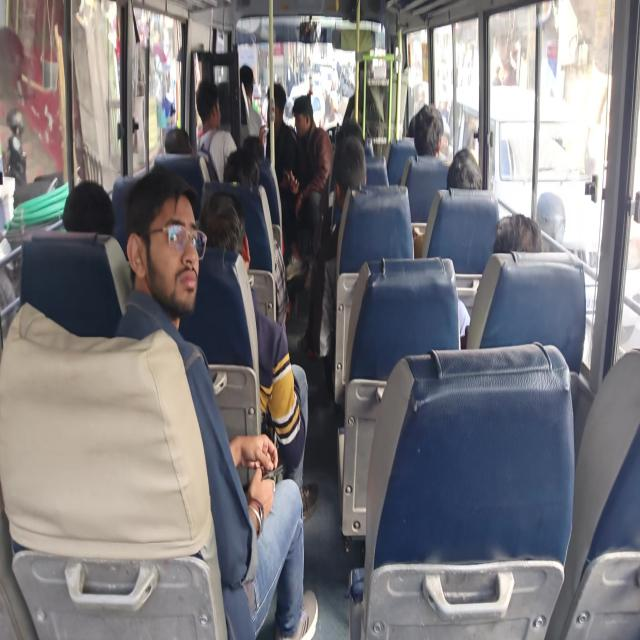person: (478, 195, 558, 265), (156, 199, 206, 307), (55, 180, 119, 240), (442, 153, 498, 216), (213, 191, 253, 264), (336, 140, 368, 190), (406, 118, 445, 159), (237, 56, 265, 100), (294, 89, 319, 138), (227, 154, 262, 186), (200, 80, 227, 118), (334, 113, 364, 144), (162, 124, 195, 152), (240, 131, 273, 156), (353, 48, 376, 76), (266, 82, 282, 116)
